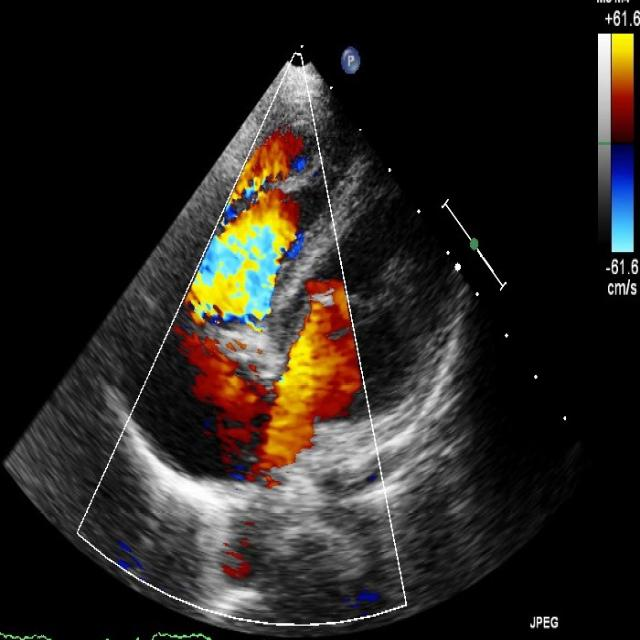ASDType2: (214, 351, 354, 471)
